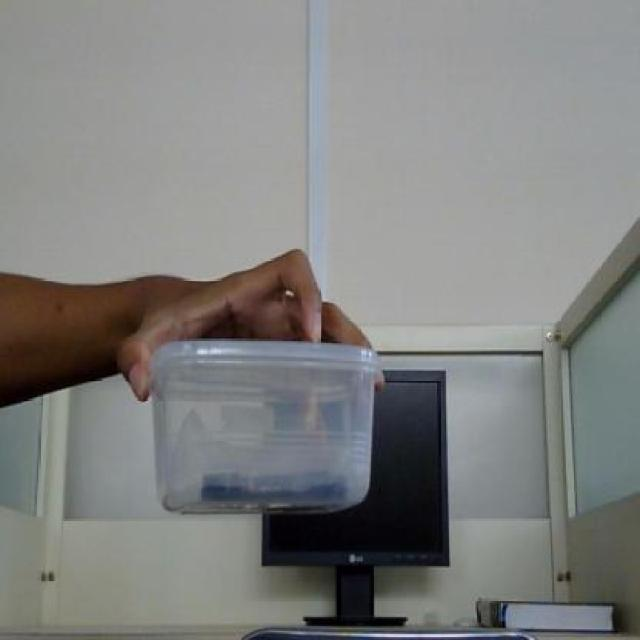Plastic: (146, 333, 384, 520)
